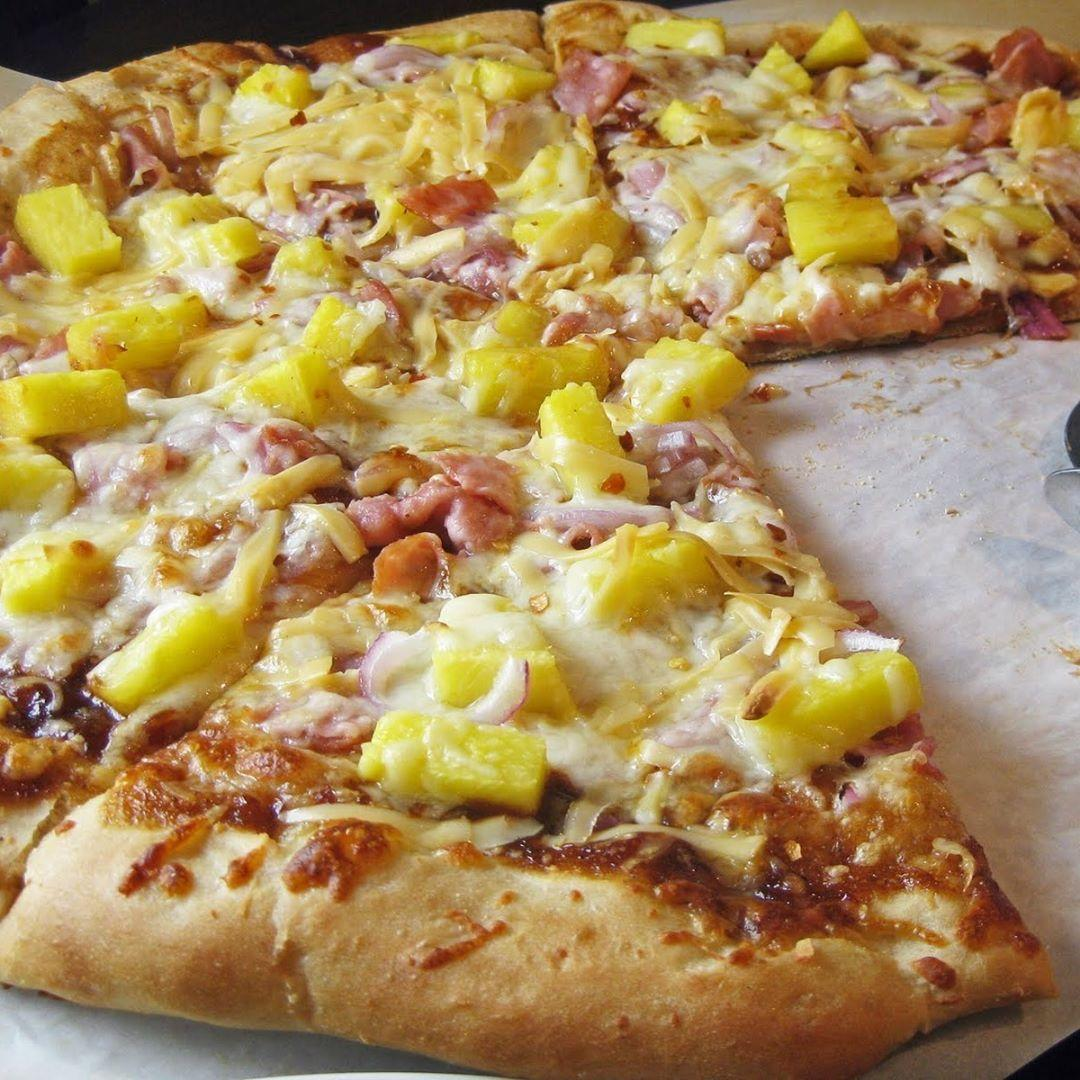Ham: (318, 450, 531, 566), (645, 163, 783, 265), (538, 41, 647, 141), (878, 113, 1015, 177), (273, 181, 373, 255), (966, 21, 1071, 91), (396, 163, 503, 227), (328, 43, 445, 93), (1011, 351, 1011, 351)
Pineapple: (78, 507, 295, 733), (733, 634, 923, 798), (353, 690, 570, 828), (221, 303, 399, 428), (580, 523, 749, 632), (468, 293, 607, 405), (537, 377, 661, 488), (3, 523, 117, 632), (10, 183, 131, 281), (0, 367, 153, 443), (617, 345, 748, 423), (146, 193, 263, 279), (68, 288, 205, 361), (421, 649, 574, 709), (785, 193, 915, 263), (513, 191, 631, 268), (615, 7, 736, 78), (215, 58, 325, 121), (513, 135, 611, 197), (5, 433, 75, 515), (743, 45, 811, 115), (470, 63, 545, 107), (805, 13, 875, 58)
Pizza: (0, 0, 1080, 1058)
